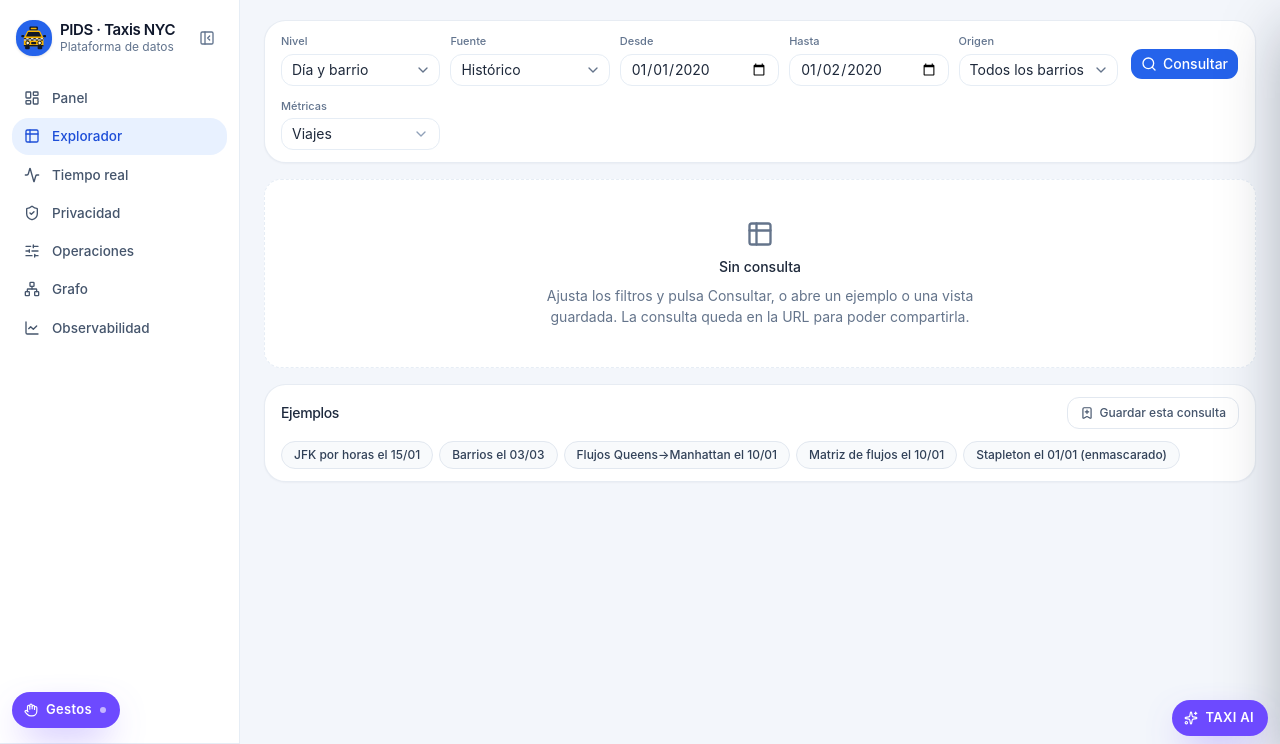
Test: PaginaExplorador › los ejemplos rápidos rellenan y lanzan la consulta
Click the button "Barrios el 03/03" at x=498, y=455, box [439,441,558,469]
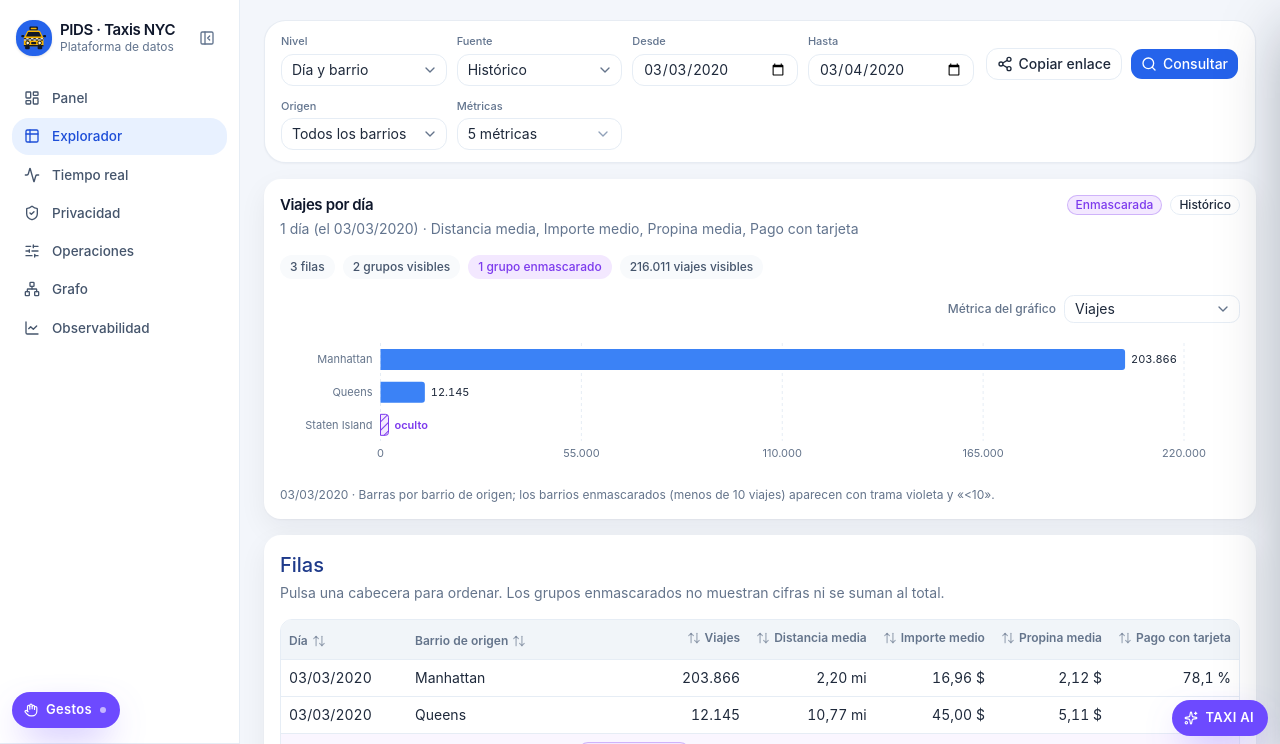
Expected: the picture named "Viajes por barrio de origen" is shown, [280,335,1240,475]
Expected: the date field labelled "Desde" holds "2020-03-03", [632,54,798,86]
